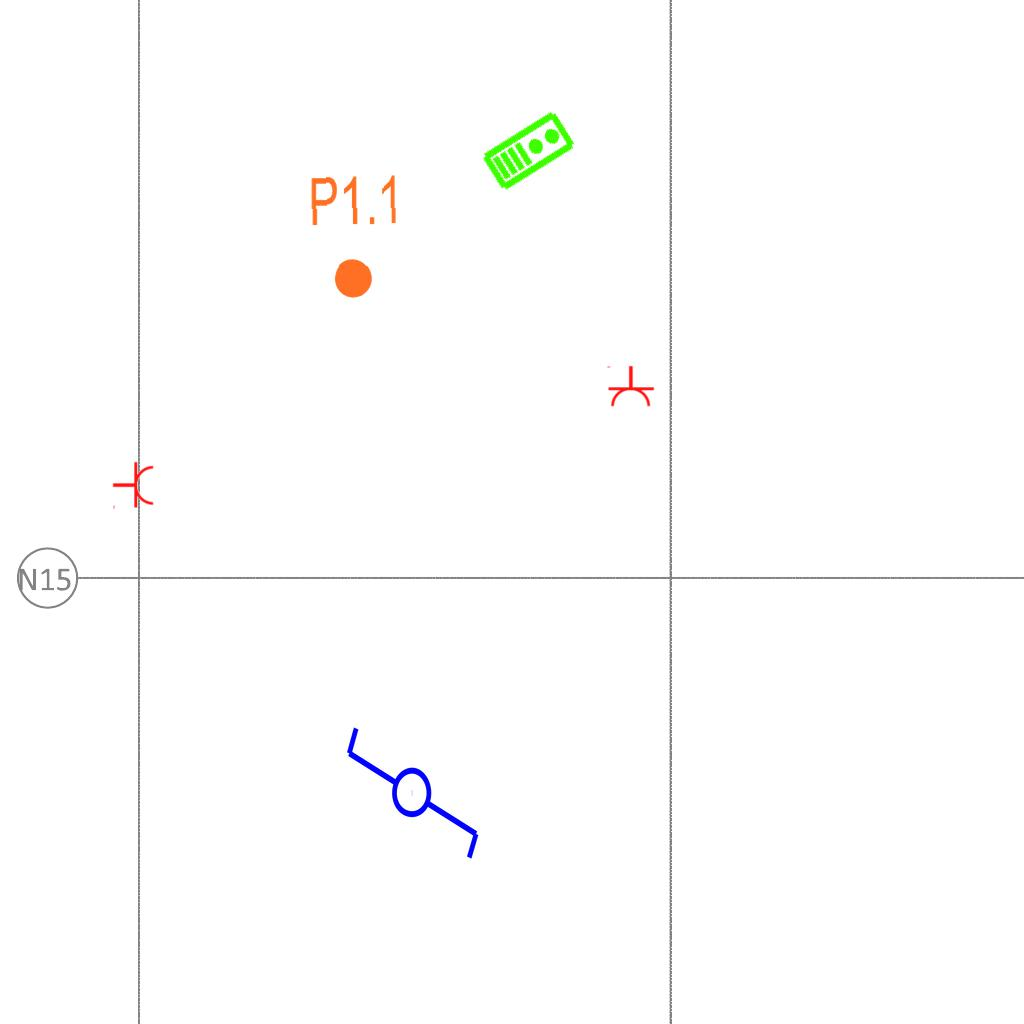Downlight_LED_Einbauleuchten_Flur: (307, 172, 404, 302)
Gegensprechanlage_mit_Video: (478, 106, 579, 194)
Schukosteckdose_einfach: (112, 461, 155, 511), (605, 365, 655, 408)
Wechselschalter: (342, 706, 486, 863)
